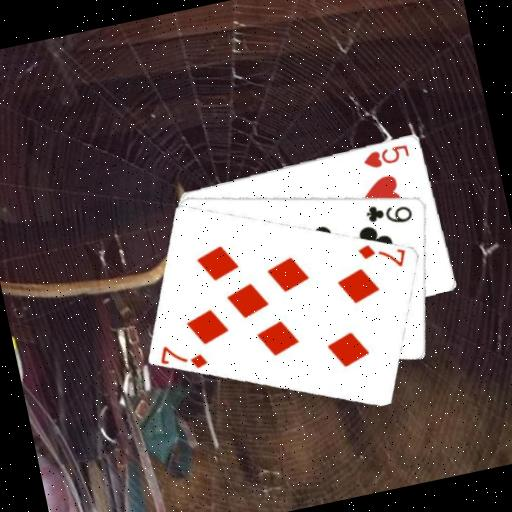5H: (359, 139, 413, 171)
7D: (353, 233, 409, 276), (155, 335, 211, 377)
9C: (361, 194, 416, 231)
